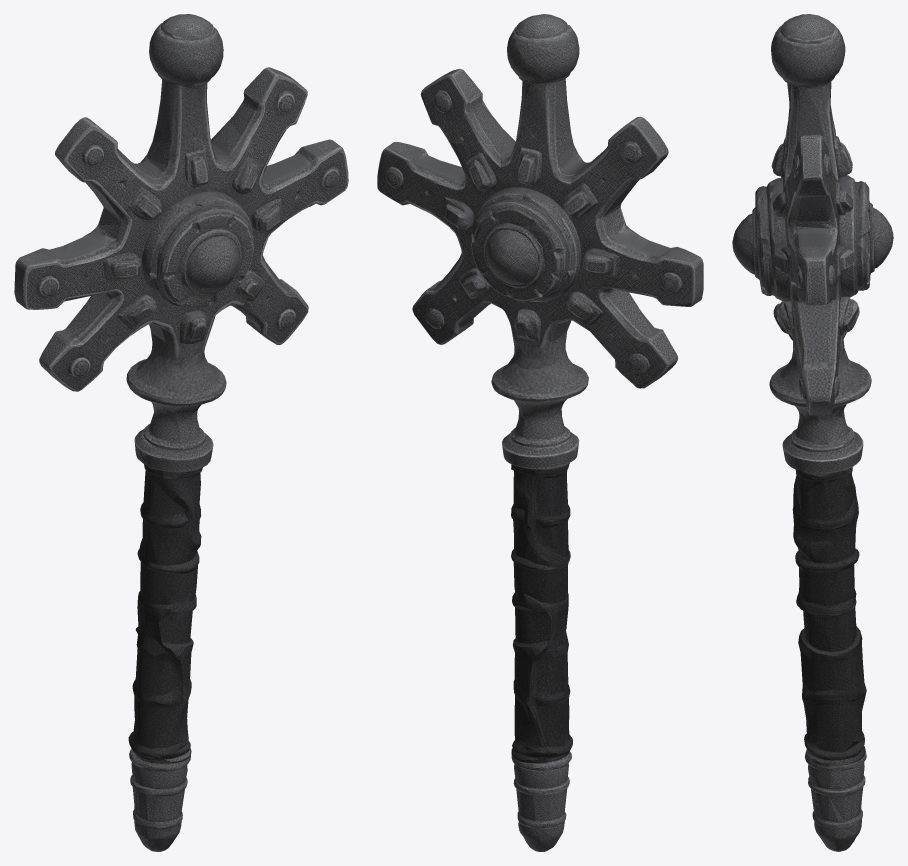
The model's file is Meshy_AI_Weapon_mace_01a0e8cc_texture.glb.
3 views of the same model, side by side, from view 1: azimuth 30°, elevation 25°; view 2: azimuth 150°, elevation 25°; view 3: azimuth 270°, elevation 25° (orthographic). The views are drawn at different scales.
Bounding box in the file's own units: 0.7735 × 1.9 × 0.3316.
1 material, 1 textured.
